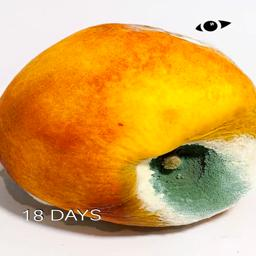Peach Rotten: (0, 20, 256, 225)
